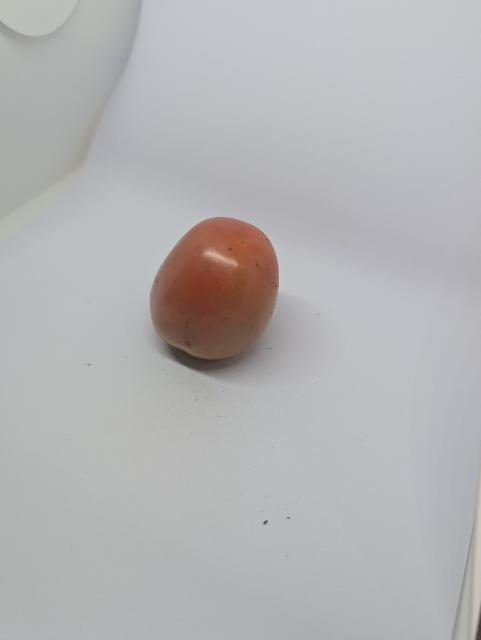red: (144, 206, 290, 363)
